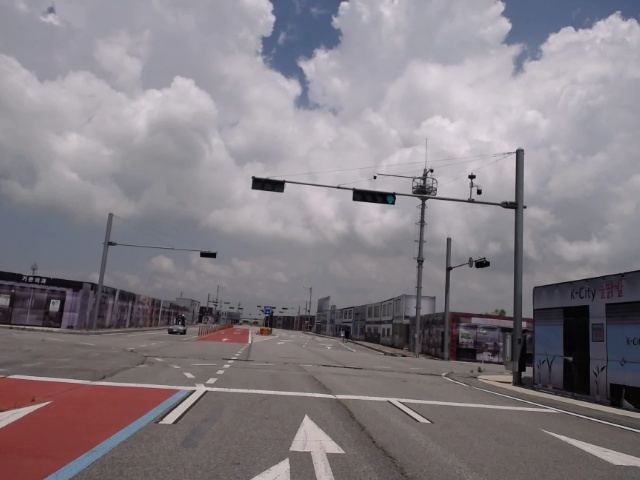straight_green_4: (352, 190, 396, 205)
